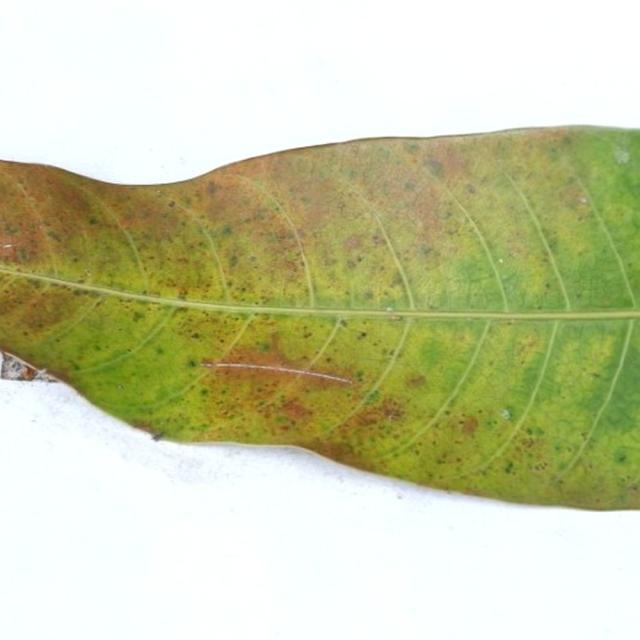Mango: (0, 128, 639, 509)
Powdery_Mildew: (241, 165, 429, 301), (349, 157, 501, 277), (371, 376, 521, 481), (212, 347, 383, 439), (548, 230, 634, 311), (3, 274, 91, 339), (333, 398, 426, 446), (405, 306, 640, 323), (206, 376, 284, 426), (165, 434, 346, 455), (251, 219, 312, 276), (425, 124, 609, 142), (271, 322, 335, 370), (446, 256, 504, 308), (412, 145, 479, 190), (2, 212, 53, 268), (429, 424, 492, 468), (503, 429, 555, 473), (294, 437, 368, 466), (348, 398, 409, 431), (212, 345, 275, 370), (272, 249, 306, 282), (559, 182, 591, 209), (275, 399, 315, 420), (624, 341, 640, 384), (130, 418, 162, 436), (271, 226, 298, 247), (342, 233, 365, 253), (380, 402, 404, 421), (268, 331, 285, 357), (0, 239, 20, 260), (457, 415, 479, 434), (423, 158, 445, 177), (34, 369, 62, 383), (622, 480, 640, 501), (15, 245, 35, 263), (405, 373, 427, 389), (204, 180, 221, 196), (613, 148, 630, 164), (385, 348, 406, 360), (546, 235, 560, 253), (364, 389, 381, 403), (390, 273, 405, 288), (274, 414, 292, 426), (502, 405, 517, 419), (47, 230, 63, 243), (21, 367, 36, 380), (199, 358, 217, 368), (405, 141, 421, 152), (371, 234, 385, 246), (187, 329, 202, 340), (528, 426, 543, 437), (198, 386, 211, 398), (228, 254, 239, 268), (346, 258, 359, 269), (420, 245, 433, 256), (533, 461, 547, 471), (132, 311, 144, 322), (465, 183, 476, 194), (259, 343, 271, 352), (505, 461, 514, 473), (363, 292, 374, 301), (616, 453, 627, 462), (148, 290, 160, 298), (389, 314, 402, 321), (177, 292, 187, 301), (338, 319, 348, 328), (355, 371, 364, 381), (83, 269, 92, 278), (189, 360, 199, 368), (303, 331, 312, 339), (358, 331, 367, 339), (544, 281, 552, 290), (506, 318, 515, 326), (167, 200, 175, 208), (591, 372, 601, 378), (634, 482, 640, 492), (428, 305, 438, 311), (249, 255, 257, 262), (2, 244, 13, 248), (445, 410, 452, 416), (117, 384, 123, 390), (397, 492, 403, 498), (386, 307, 393, 312), (254, 300, 260, 305), (156, 190, 162, 195)
